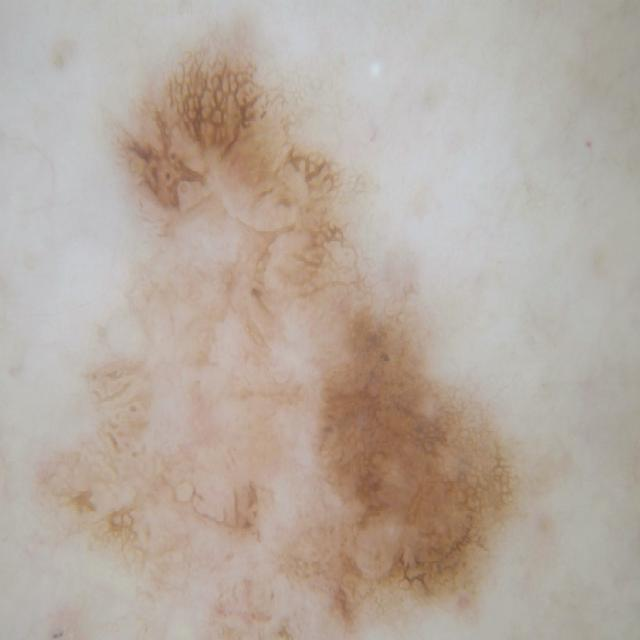Melanoma: (60, 35, 544, 640)
